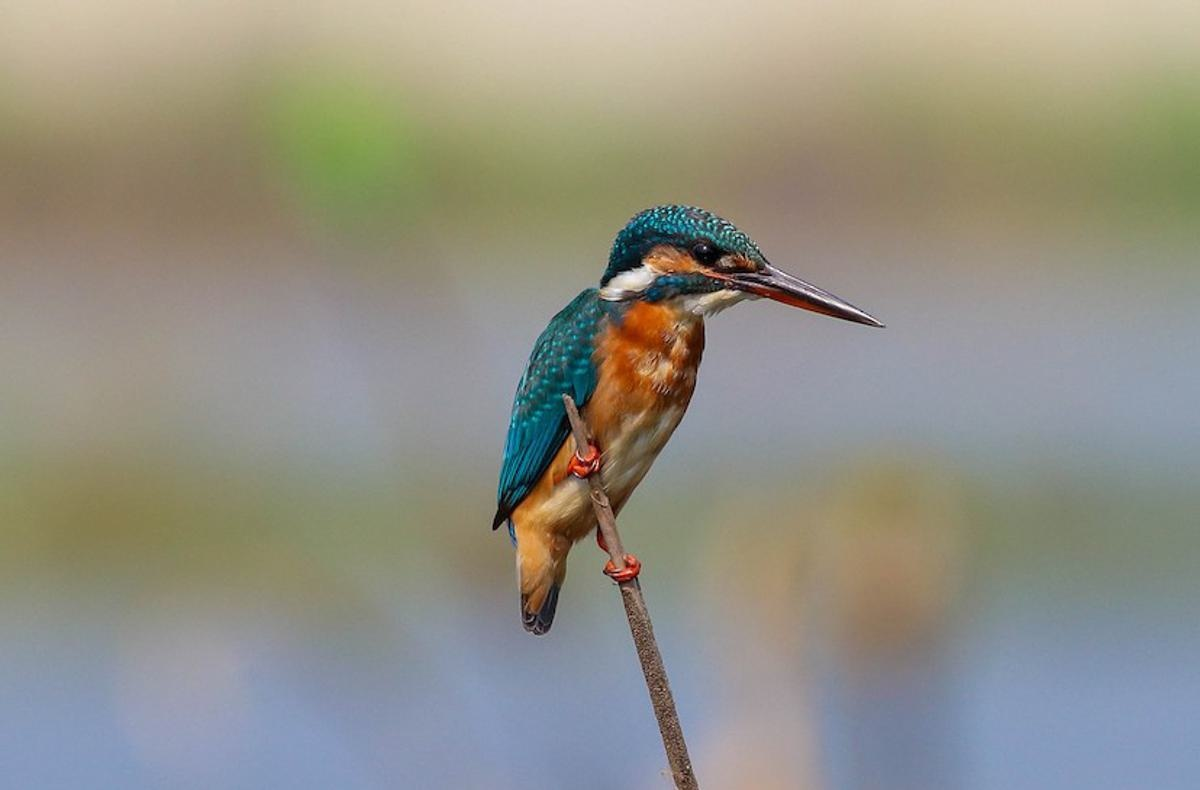kingfisher: (494, 208, 895, 633)
